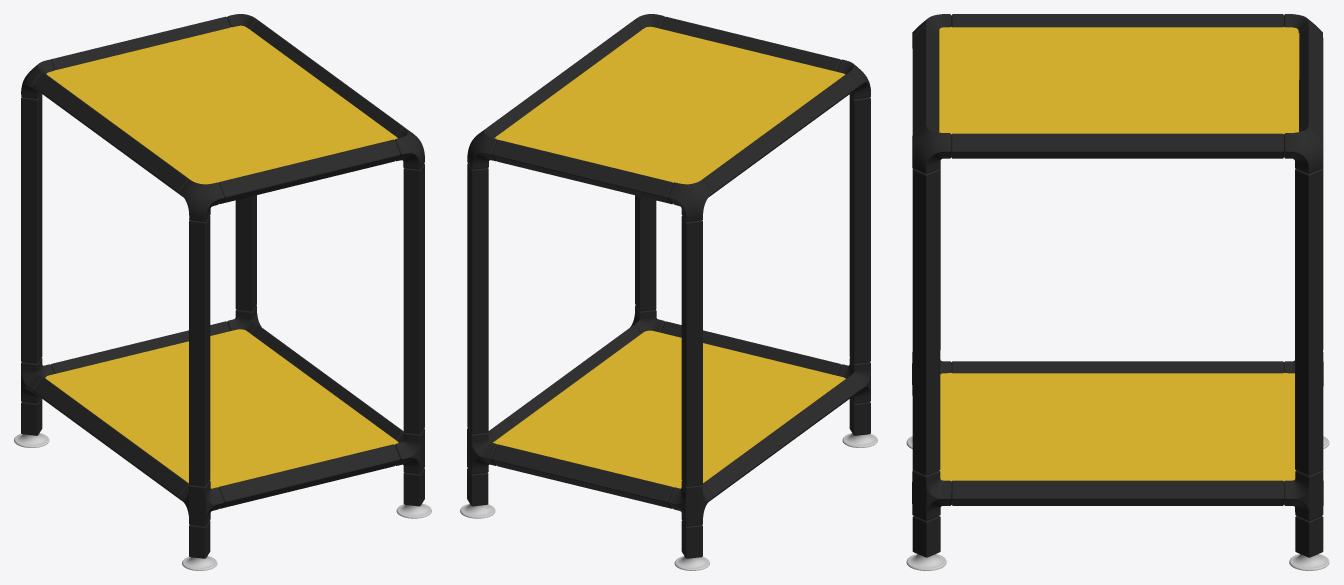
3 views of the same model, side by side, from view 1: azimuth 30°, elevation 25°; view 2: azimuth 150°, elevation 25°; view 3: azimuth 270°, elevation 25° (orthographic). The views are drawn at different scales.
Parts seen in each view (by area): view 1: 229x329x329; view 2: 229x329x329; view 3: 229x329x329.
Boxes of the visible parts, <box> form: 229x329x329: <box>14,14,431,570</box>; 229x329x329: <box>460,14,877,570</box>; 229x329x329: <box>906,14,1329,570</box>.
Bounding box in the file's own units: 0.3189 × 0.4683 × 0.4182.
